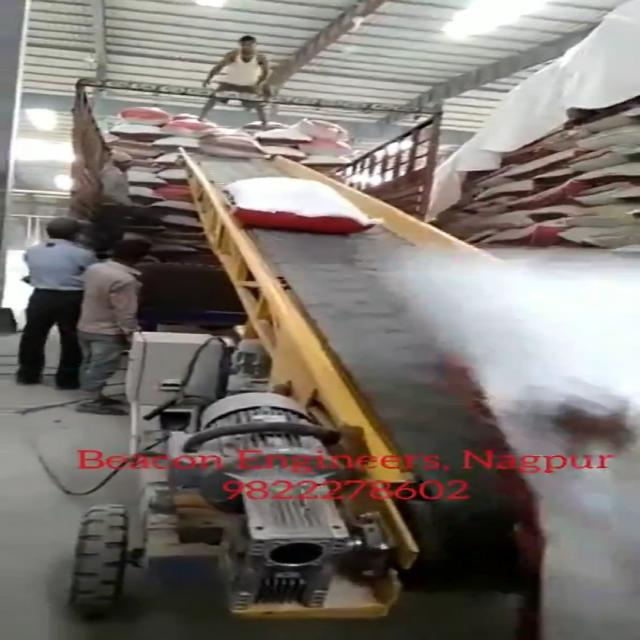Convoyeur: (177, 136, 640, 577)
